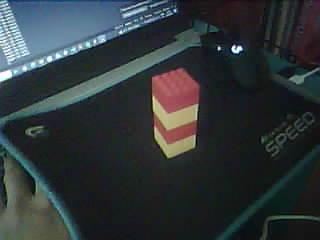lego: (151, 67, 200, 159)
